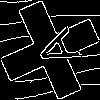A: (25, 25, 81, 75)
